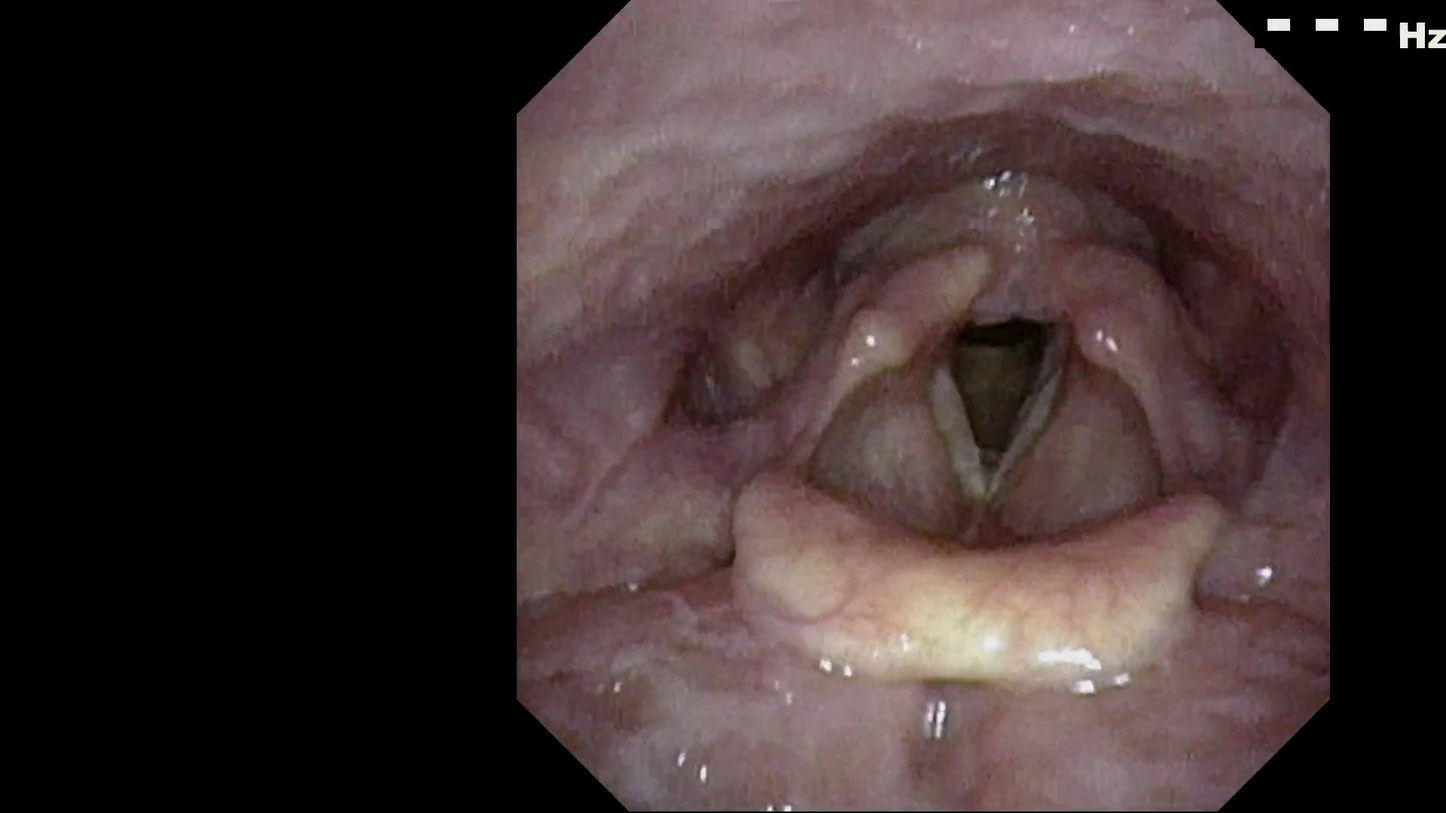epiglottis: (693, 443, 1292, 722)
trachea: (905, 286, 1091, 520)
